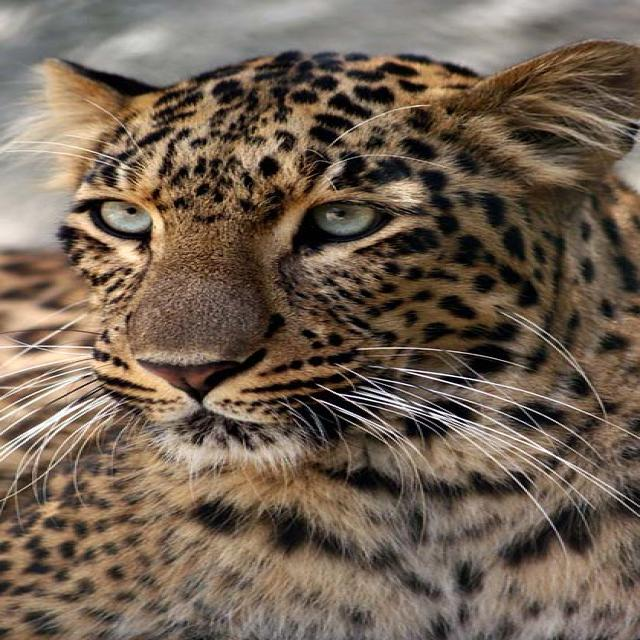Leopard: (6, 30, 639, 639)
